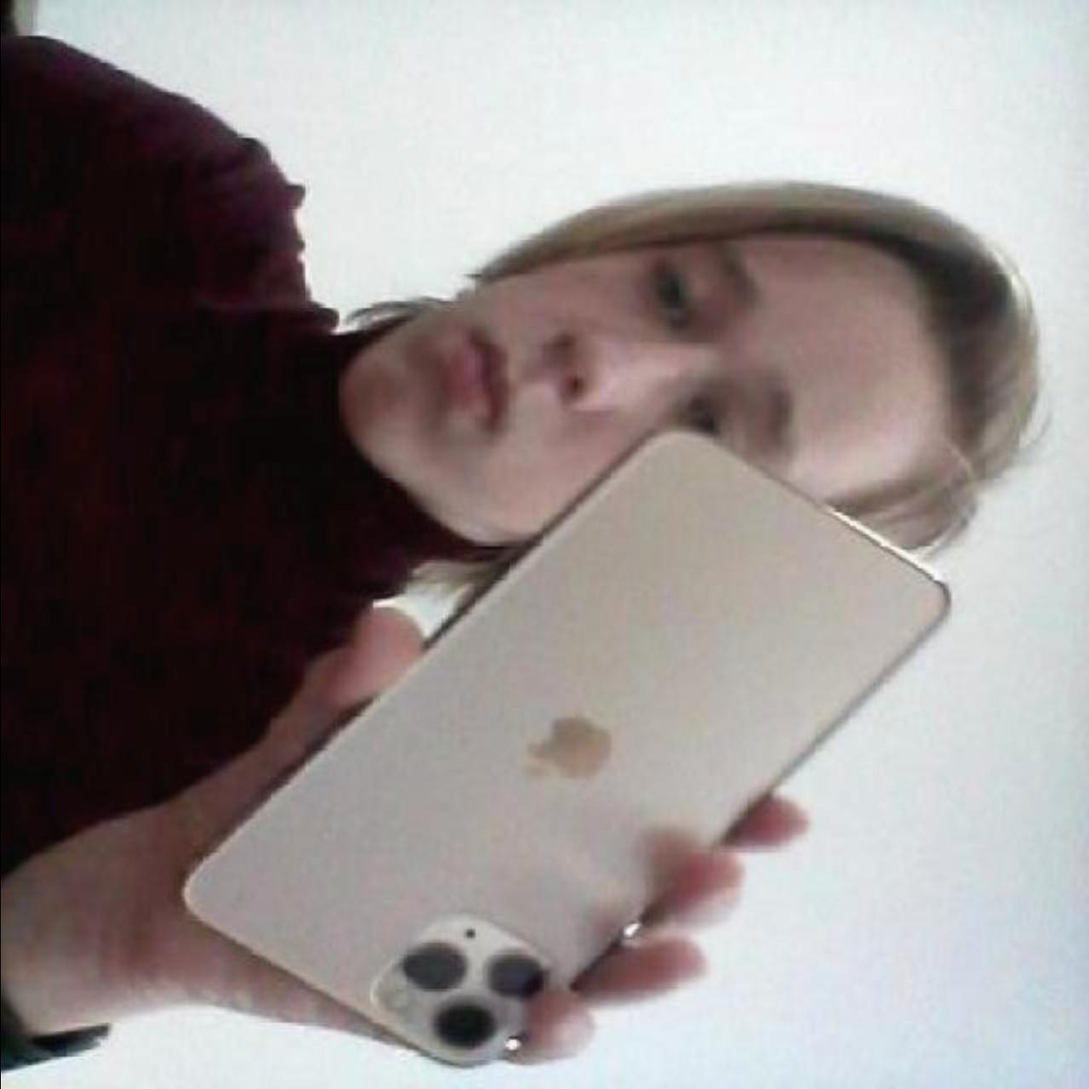phone: (165, 419, 960, 1053)
